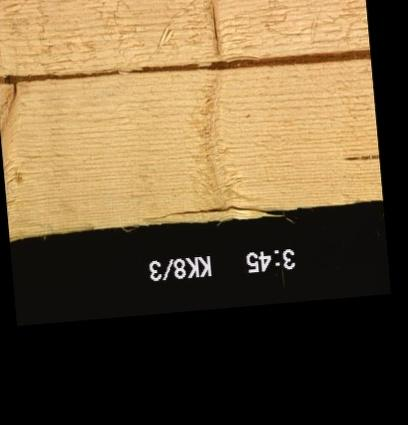split: (139, 204, 282, 223)
